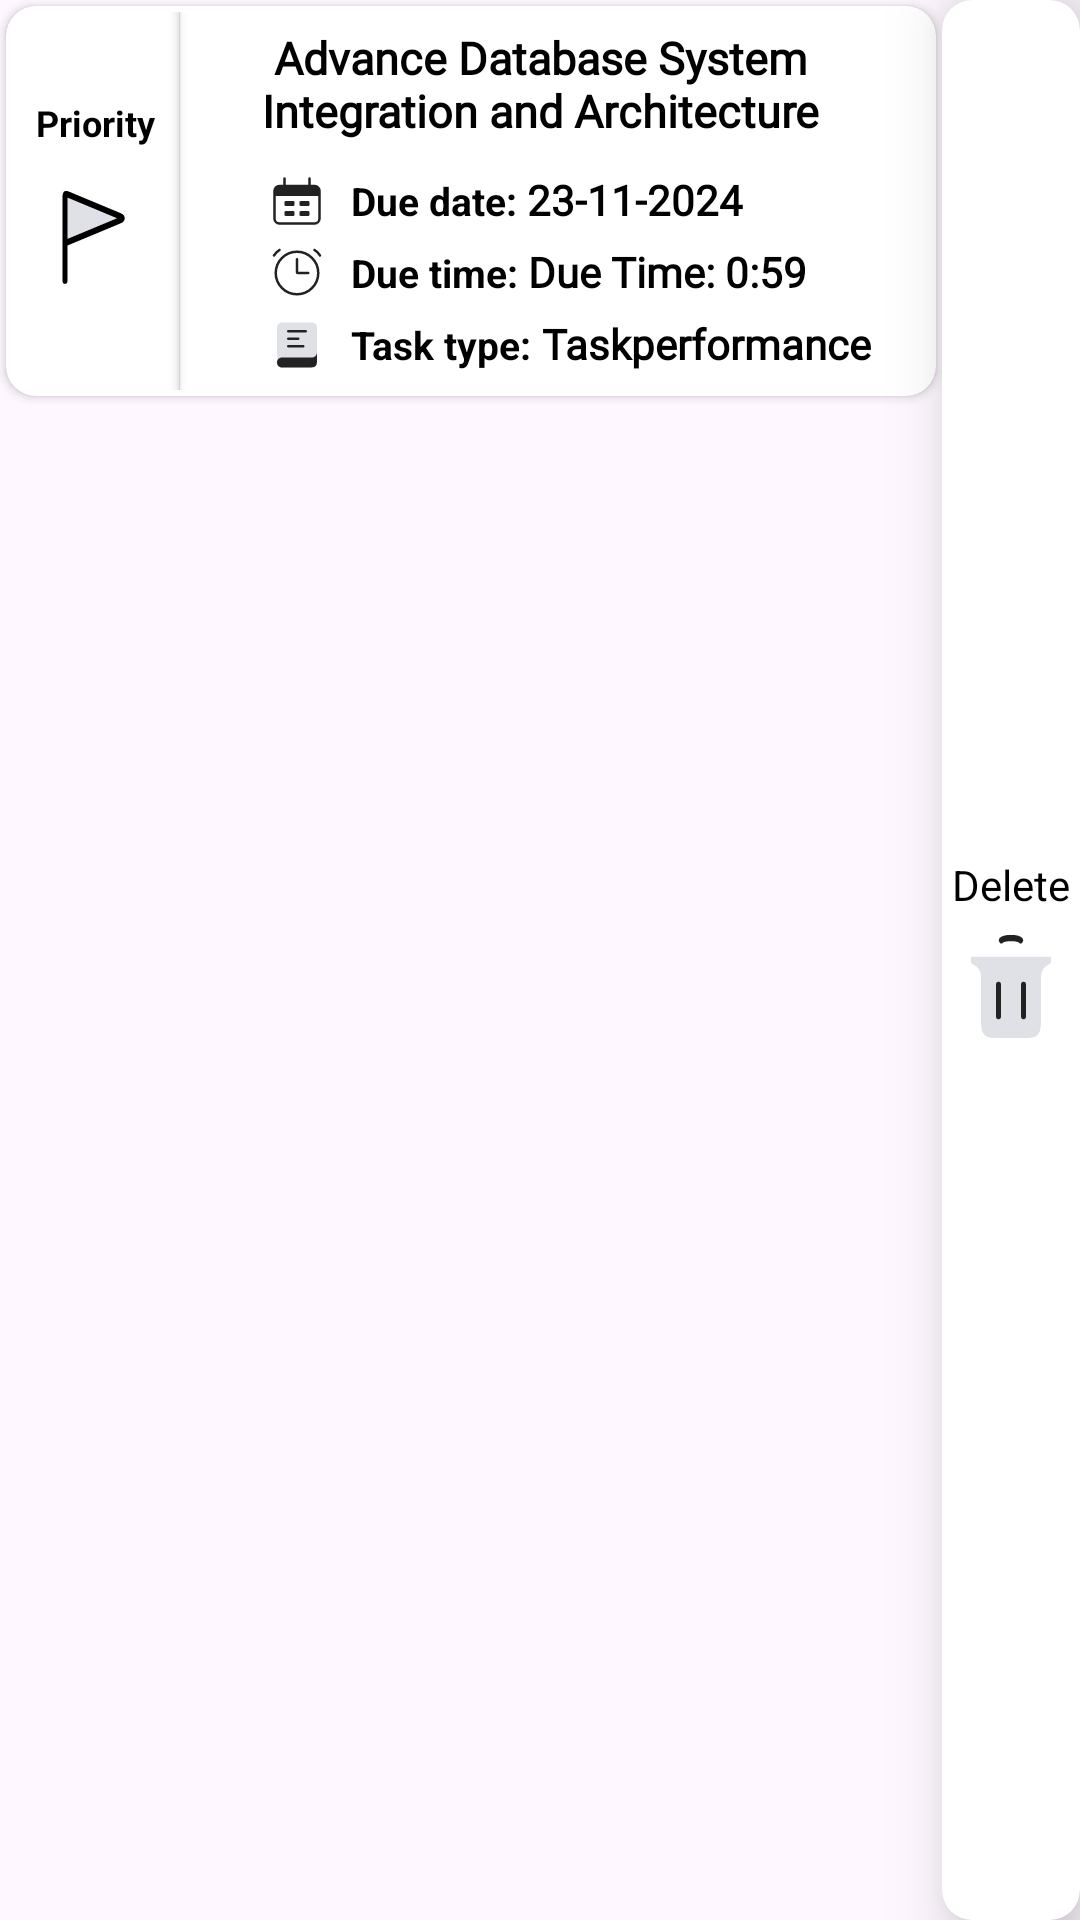

Where icons sit on this 1080 × 1920 app screen, as bbox=(x1, y1, x2, y2):
book duotone: bbox=(277, 323, 317, 368)
clock: bbox=(272, 248, 322, 296)
date range: bbox=(273, 177, 321, 225)
flag duotone line: bbox=(62, 191, 125, 284)
trash duotone: bbox=(971, 935, 1051, 1038)
